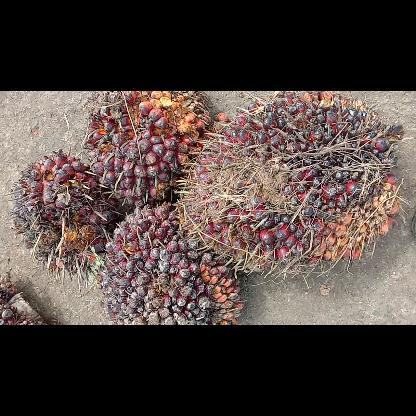Kurang masak: (172, 91, 404, 281), (100, 200, 249, 324)
TBS masak: (6, 148, 122, 288), (79, 92, 215, 209)
